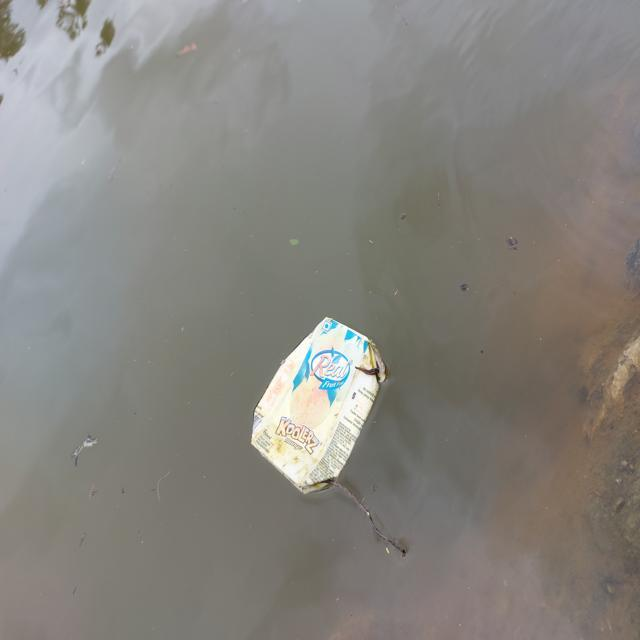paper: (238, 284, 413, 555)
